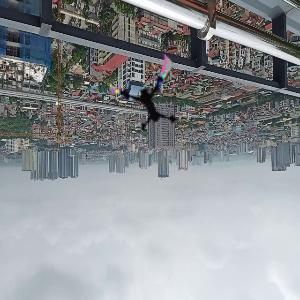drone: (107, 58, 187, 138)
